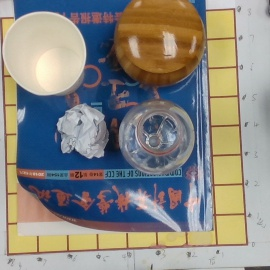bottle: (121, 99, 194, 177)
chess: (110, 1, 205, 88)
cup: (4, 12, 98, 97)
